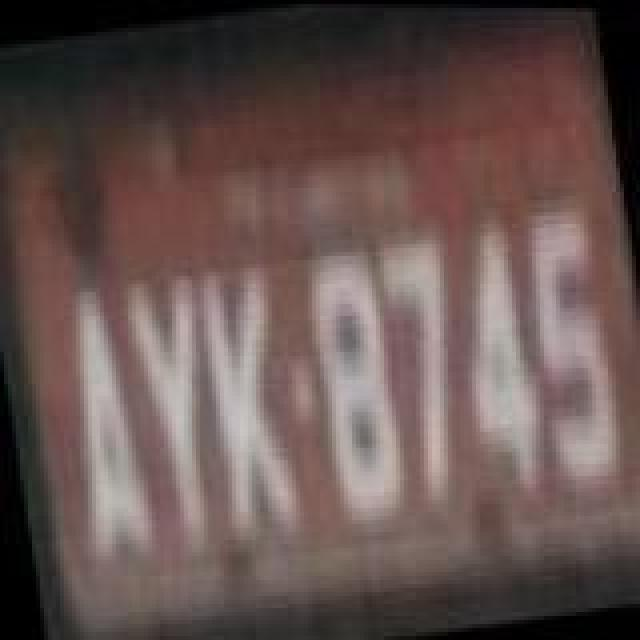4: (438, 204, 554, 496)
5: (516, 194, 636, 490)
7: (368, 226, 480, 510)
8: (298, 242, 414, 534)
A: (48, 276, 160, 560)
K: (190, 260, 306, 544)
Y: (118, 268, 234, 552)
